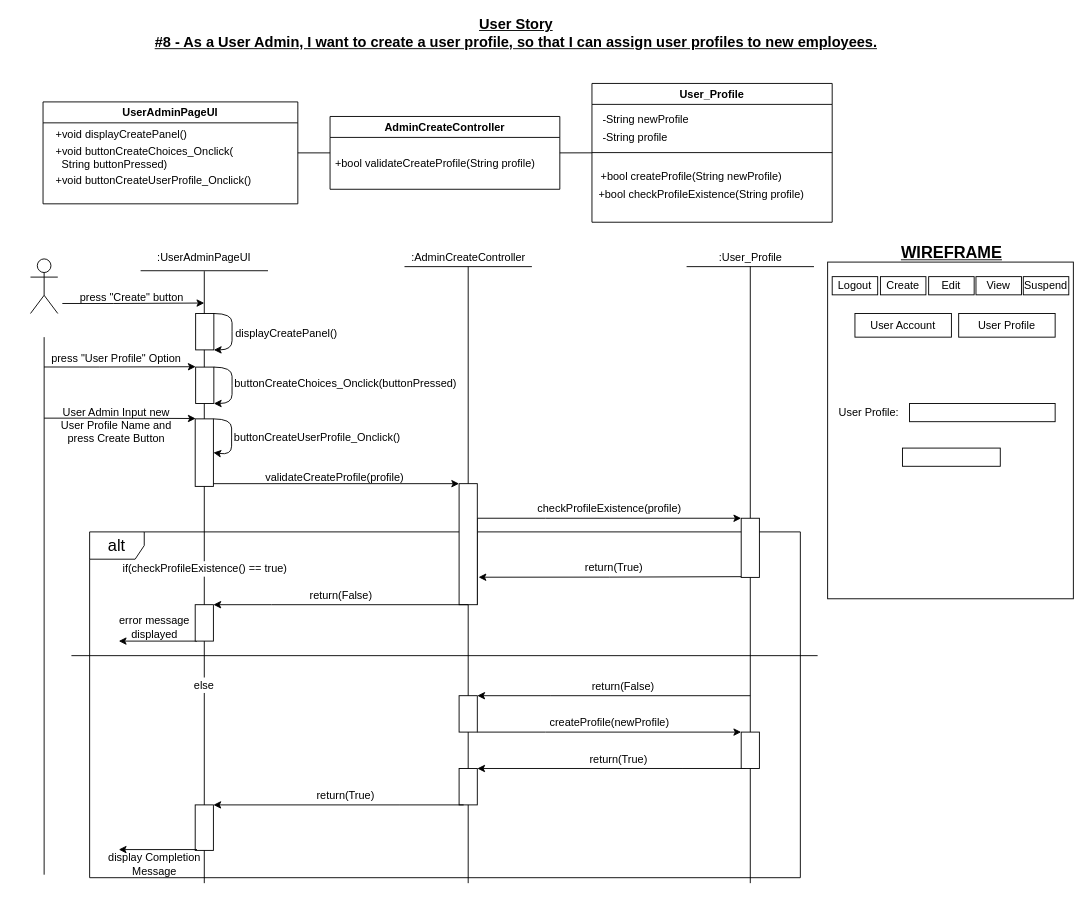
The diagram is 1089 pixels wide and 900 high, and some of its shapes have lost their labels. The centre of each missing label's shape, as x and y in pixels:
"Create User Profile" belongs at (951,456).
"User Admin" belongs at (44,285).
